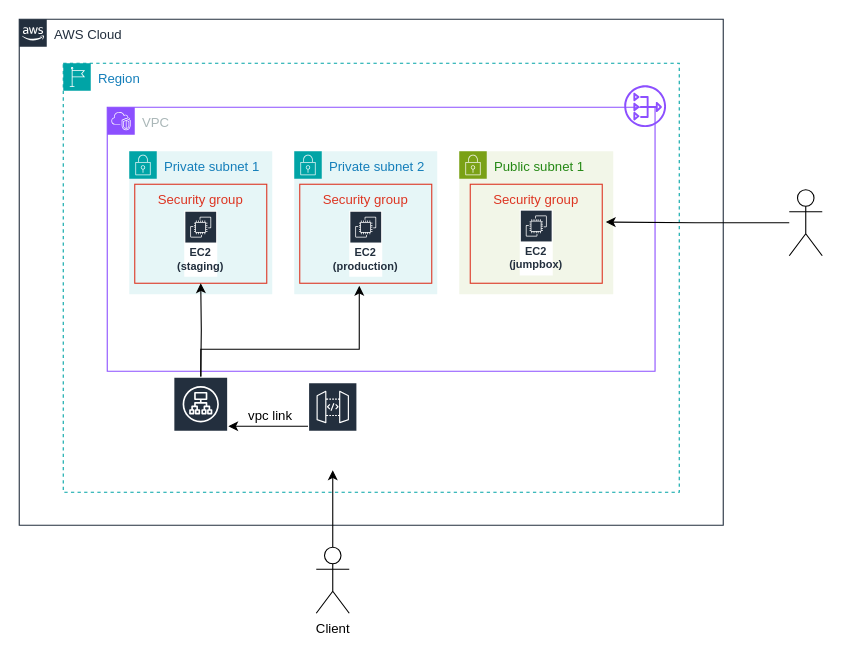
Some shapes in this 857 by 656 pixel diagram are drawn without their labels. Here are the shapes that lost their labels. From the top down, the centre of each, then its label:
At pixel 645 106: "NAT".
At pixel 805 222: "SSH Client".
At pixel 200 426: "Application Load Balancer".
At pixel 332 425: "API Gateway (staging/prod)".
